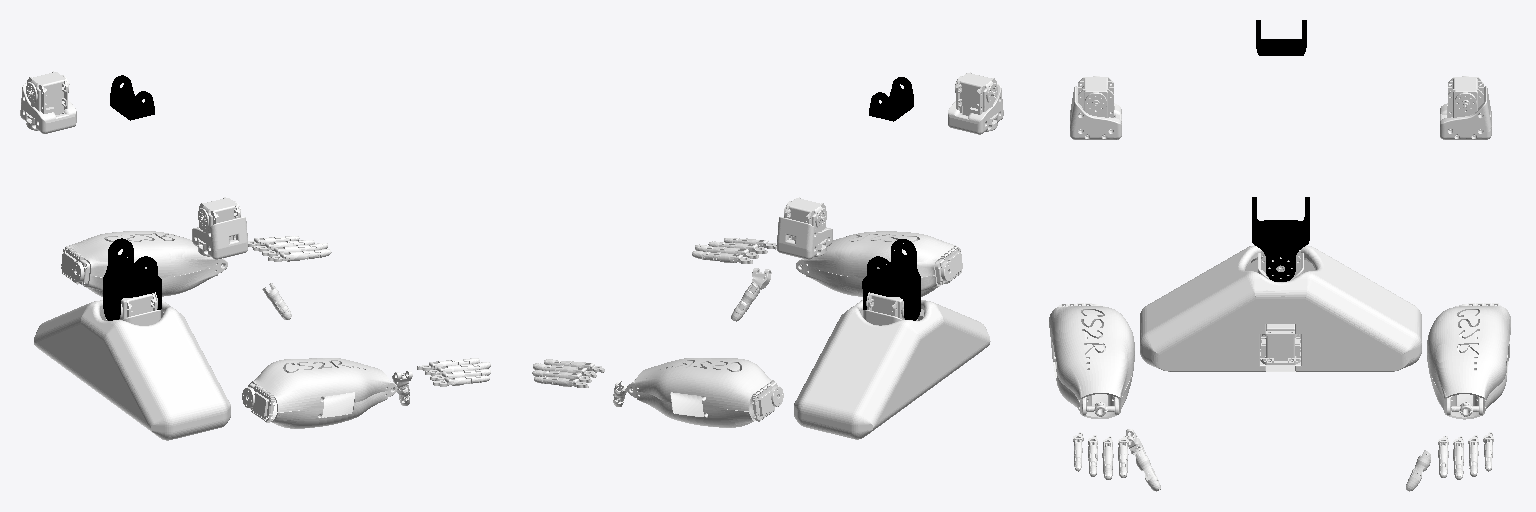
--- Facts derived from the render (not from the file) ---
Views: 3 orthographic renders of the robot side by side, from view 1: azimuth 30°, elevation 25°; view 2: azimuth 150°, elevation 25°; view 3: azimuth 270°, elevation 25°.
Robot: hek — 59 links, 58 joints (55 revolute, 3 fixed); root link world; default pose: all joints at 0 but 4 set to mid-range because 0 is outside their limits (l_elpow_y = 1.43, l_thumb_joint_x = 1.05, r_elpow_y = 1.43, r_thumb_joint_x = 1.05).
Visible links, largest first — view 1: base, r_forearm, l_forearm, abd, l_upper_arm_up, r_upper_arm_up, neck, abd_z_joint; view 2: base, l_forearm, r_forearm, abd, l_upper_arm_up, r_upper_arm_up, neck, abd_z_joint; view 3: base, r_forearm, l_forearm, r_upper_arm_up, l_upper_arm_up, abd, neck.
Boxes of the visible links, <box> form: base: <box>34,300,230,440</box>; r_forearm: <box>242,358,397,428</box>; l_forearm: <box>61,231,227,296</box>; abd: <box>103,238,161,320</box>; l_upper_arm_up: <box>20,71,76,133</box>; r_upper_arm_up: <box>192,197,247,259</box>; neck: <box>110,75,154,120</box>; abd_z_joint: <box>106,292,160,325</box>; base: <box>794,300,990,439</box>; l_forearm: <box>627,358,783,427</box>; r_forearm: <box>796,231,962,296</box>; abd: <box>862,239,920,320</box>; l_upper_arm_up: <box>777,197,832,259</box>; r_upper_arm_up: <box>948,72,1003,134</box>; neck: <box>869,77,913,121</box>; abd_z_joint: <box>863,292,917,325</box>; base: <box>1140,245,1421,371</box>; r_forearm: <box>1049,303,1134,418</box>; l_forearm: <box>1427,303,1510,419</box>; r_upper_arm_up: <box>1070,76,1121,139</box>; l_upper_arm_up: <box>1440,76,1491,139</box>; abd: <box>1252,197,1309,281</box>; neck: <box>1256,20,1306,55</box>.
Size in the robot's own frame: 0.3921 by 0.4585 by 0.3903 metres.
47 mesh visuals loaded from 33 distinct referenced files (25 binary STL); not drawn: 11 (reference not matched to a file when rendering).

URDF robot description (hek):
<?xml version="1.0"?>
<robot name="hek">

  <link name="world"/>

  <link name="base">
    <visual>
      <origin xyz="-0.05 -0.14 0" rpy="1.57 0 1.57"/>
      <geometry>
        <mesh filename="package://cs2r_desc/stl/base0.STL"
              scale="0.001 0.001 0.001"
        />
      </geometry>
      <material name="white">
        <color rgba="1 1 1 1"/>
      </material>
    </visual>
  </link>

  <joint name="fixed" type="fixed">
    <parent link="world"/>
    <child link="base"/>
  </joint>

  <link name="abd_z_joint">
    <visual>
      <origin xyz="-0.024 0.0231 0" rpy="1.57 0 0"/>
      <geometry>
        <mesh filename="package://cs2r_desc/stl/abd_z_joint0.STL"
              scale="0.001 0.001 0.001"
        />
      </geometry>
      <material name="white"/>
    </visual>
  </link>

  <joint name="abd_z" type="revolute">
    <origin xyz="0 0 0.049" rpy="0 0 0"/>
    <parent link="base"/>
    <child link="abd_z_joint"/>
    <axis xyz="0 0 1"/>
    <limit effort="100" velocity="1.0" lower="-0.75" upper="0.75" />
  </joint>

  <link name="abd">
    <visual>
      <origin xyz="-0.0285 0.0285 -0.015" rpy="1.57 0 0"/>
      <geometry>
        <mesh filename="package://cs2r_desc/stl/abd.STL"
              scale="0.001 0.001 0.001"
        />
      </geometry>
      <material name="black">
        <color rgba="0 0 0 1"/>
      </material>
    </visual>
  </link>

  <joint name="abd_x" type="revolute">
    <origin xyz="0 0 0.0531" rpy="0 0 1.57"/>
    <parent link="abd_z_joint"/>
    <child link="abd"/>
    <axis xyz="0 1 0"/>
    <limit effort="100" velocity="1.0" lower="-0.5" upper="0.5" />
  </joint>


  <link name="chest">
    <visual>
      <origin xyz="0.05 0.149895 -0.014" rpy="1.57 0 -1.57"/>
      <geometry>
        <mesh filename="package://cs2r_desc/stl/chest0.STL"
              scale="0.001 0.001 0.001"
        />
      </geometry>
      <material name="white"/>
    </visual>
  </link>

  <joint name="abd_y" type="revolute">
    <origin xyz="0 0 0.05" rpy="0 0 -1.57"/>
    <parent link="abd"/>
    <child link="chest"/>
    <axis xyz="0 1 0"/>
    <limit effort="100" velocity="1.0" lower="-0.7" upper="1.0" />
  </joint>


  <link name="neck">
    <visual>
      <origin xyz="-0.015 -0.0255 0" rpy="1.57 0 1.57"/>
      <geometry>
        <mesh filename="package://cs2r_desc/stl/neck.STL"
              scale="0.001 0.001 0.001"
        />
      </geometry>
      <material name="black"/>
    </visual>
  </link>

  <joint name="neck_z" type="revolute">
    <origin xyz="0 0 0.17654" rpy="0 0 0"/>
    <parent link="chest"/>
    <child link="neck"/>
    <axis xyz="0 0 1"/>
    <limit effort="100" velocity="1.0" lower="-1.0" upper="1.0" />
  </joint>


  <link name="head">
    <visual>
      <origin xyz="0.0535 0.08 -0.0115" rpy="1.57 0 -1.57"/>
      <geometry>
        <mesh filename="package://cs2r_desc/stl/head.STL"
              scale="0.001 0.001 0.001"
        />
      </geometry>
      <material name="white"/>
    </visual>
  </link>

  <joint name="neck_y" type="revolute">
    <origin xyz="0 0 0.02" rpy="0 0 0"/>
    <parent link="neck"/>
    <child link="head"/>
    <axis xyz="0 1 0"/>
    <limit effort="100" velocity="1.0" lower="-0.6" upper="0.7" />
  </joint>

  <!-- LEFT ARM *****************************************************************-->

  <link name="l_shoulder">
    <visual>
      <origin xyz="0 0 0" rpy="0 0 0"/>
      <geometry>
        <mesh filename="package://cs2r_desc/stl/shoulder.STL"
              scale="0.001 0.001 0.001"
        />
      </geometry>
      <material name="white"/>
    </visual>
  </link>

  <joint name="l_shoulder_y" type="revolute">
    <origin xyz="0.001 0.14819 0.1286" rpy="0 0 1.57"/>
    <parent link="chest"/>
    <child link="l_shoulder"/>
    <axis xyz="-1 0 0"/>
    <limit effort="100" velocity="1.0" lower="-1.0" upper="2.7" />
  </joint>

  <link name="l_upper_arm_up">
    <visual>
      <origin xyz="-0.0258 0.02385 -0.0416" rpy="1.57 0 0"/>
      <geometry>
        <mesh filename="package://cs2r_desc/stl/l_upper_arm_up.STL"
              scale="0.001 0.001 0.001"
        />
      </geometry>
      <material name="white"/>
    </visual>
  </link>

  <joint name="l_shoulder_x" type="revolute">
    <origin xyz="0.035 0 0" rpy="0 0 0"/>
    <parent link="l_shoulder"/>
    <child link="l_upper_arm_up"/>
    <axis xyz="0 -1 0"/>
    <limit effort="100" velocity="1.0" lower="0" upper="1.7" />
  </joint>

  <link name="l_upper_arm">
    <visual>
      <origin xyz="0 0 0" rpy="0 0 0"/>
      <geometry>
        <mesh filename="package://cs2r_desc/stl/upper_arm.STL"
              scale="0.001 0.001 0.001"
        />
      </geometry>
      <material name="white"/>
    </visual>
  </link>

  <joint name="l_shoulder_z" type="revolute">
    <origin xyz="0 0.01 -0.0416" rpy="0 0 -1.57"/>
    <parent link="l_upper_arm_up"/>
    <child link="l_upper_arm"/>
    <axis xyz="0 0 1"/>
    <limit effort="100" velocity="1.0" lower="-1.57" upper="1.57" />
  </joint>

  <link name="l_elpow">
    <visual>
      <origin xyz="0 0 0" rpy="0 0 0"/>
      <geometry>
        <mesh filename="package://cs2r_desc/stl/elpow.STL"
              scale="0.001 0.001 0.001"
        />
      </geometry>
      <material name="black"/>
    </visual>
  </link>

  <joint name="l_elpow_y" type="revolute">
    <origin xyz="0.01 -0.001 -0.1557" rpy="0 0 0"/>
    <parent link="l_upper_arm"/>
    <child link="l_elpow"/>
    <axis xyz="0 -1 0"/>
    <limit effort="100" velocity="1.0" lower="0.35" upper="2.5" />
  </joint>

  <link name="l_forearm">
    <visual>
      <origin xyz="0 0 0" rpy="0 0 0"/>
      <geometry>
        <mesh filename="package://cs2r_desc/stl/l_forearm.STL"
              scale="0.001 0.001 0.001"
        />
      </geometry>
      <material name="white"/>
    </visual>
  </link>

  <joint name="l_elpow_x" type="revolute">
    <origin xyz="-0.02078 0.0 -0.03755" rpy="0 1.57 0"/>
    <parent link="l_elpow"/>
    <child link="l_forearm"/>
    <axis xyz="-1 0 0"/>
    <limit effort="100" velocity="1.0" lower="0.0" upper="3.14" />
  </joint>

  <link name="l_wrist">
    <visual>
      <origin xyz="0 0 0" rpy="0 0 0"/>
      <geometry>
        <mesh filename="package://cs2r_desc/stl/wrist.STL"
              scale="0.001 0.001 0.001"
        />
      </geometry>
      <material name="white"/>
    </visual>
  </link>

  <joint name="l_wrist_y" type="revolute">
    <origin xyz="0.17325 0.0015 0" rpy="0 0 0"/>
    <parent link="l_forearm"/>
    <child link="l_wrist"/>
    <axis xyz="0 1 0"/>
    <limit effort="100" velocity="1.0" lower="-1.0" upper="1.0" />
  </joint>

  <!--left_hand-->

  <link name="l_palm">
    <visual>
      <origin xyz="0 0 0" rpy="0 0 0"/>
      <geometry>
        <mesh filename="package://cs2r_desc/stl/l_palm.STL"
              scale="0.001 0.001 0.001"
        />
      </geometry>
      <material name="white"/>
    </visual>
  </link>

  <joint name="l_wrist_z" type="revolute">
    <origin xyz="0 0 0" rpy="0 0 0"/>
    <parent link="l_wrist"/>
    <child link="l_palm"/>
    <axis xyz="0 0 1"/>
    <limit effort="100" velocity="1.0" lower="-0.65" upper="0.65" />
  </joint>

  <link name="l_thumb_joint">
    <visual>
      <origin xyz="0 0 0" rpy="0 0 0"/>
      <geometry>
        <mesh filename="package://cs2r_desc/stl/l_thumb_joint.STL"
              scale="0.001 0.001 0.001"
        />
      </geometry>
      <material name="white"/>
    </visual>
  </link>

  <joint name="l_thumb_joint_x" type="revolute">
    <origin xyz="0.0417 -0.0291 -0.0057" rpy="0 0 0"/>
    <parent link="l_palm"/>
    <child link="l_thumb_joint"/>
    <axis xyz="1 0 0"/>
    <limit effort="100" velocity="1.0" lower="0.1" upper="2" />
  </joint>

  <link name="l_thumb1">
    <visual>
      <origin xyz="0 0 0" rpy="0 0 0"/>
      <geometry>
        <mesh filename="package://cs2r_desc/stl/Thumb1.STL"
              scale="0.001 0.001 0.001"
        />
      </geometry>
      <material name="white"/>
    </visual>
  </link>

  <joint name="l_thumb" type="revolute">
    <origin xyz="0.0068 -0.019 0" rpy="0.3 -0.0 -1.06"/>
    <parent link="l_thumb_joint"/>
    <child link="l_thumb1"/>
    <axis xyz="0 1 0"/>
    <limit effort="100" velocity="1.0" lower="0" upper="1.4" />
  </joint>

  <link name="l_thumb2">
    <visual>
      <origin xyz="0 0 0" rpy="0 0 0"/>
      <geometry>
        <mesh filename="package://cs2r_desc/stl/Thumb2.STL"
              scale="0.001 0.001 0.001"
        />
      </geometry>
      <material name="white"/>
    </visual>
  </link>

  <joint name="l_thumb1_2" type="revolute">
    <origin xyz="0.021 0 0" rpy="0 0 0"/>
    <parent link="l_thumb1"/>
    <child link="l_thumb2"/>
    <axis xyz="0 1 0"/>
    <mimic joint="l_thumb" multiplier="1"/>
    <limit effort="100" velocity="1.0" lower="0" upper="1.4" />
  </joint>

  <link name="l_index_finger_joint">
    <visual>
      <origin xyz="0 0 0" rpy="0 0 0"/>
      <geometry>
        <mesh filename="package://cs2r_desc/stl/finger_joint.STL"
              scale="0.001 0.001 0.001"
        />
      </geometry>
      <material name="white"/>
    </visual>
  </link>

  <joint name="l_fingers_z" type="revolute">
    <origin xyz="0.06512 -0.0225 0.0051" rpy="0 0 0"/>
    <parent link="l_palm"/>
    <child link="l_index_finger_joint"/>
    <axis xyz="0 0 1"/>
    <limit effort="100" velocity="1.0" lower="-0.25" upper="0.15" />
  </joint>

  <link name="l_index1">
    <visual>
      <origin xyz="0 0 0" rpy="0 0 0"/>
      <geometry>
        <mesh filename="package://cs2r_desc/stl/Index1.STL"
              scale="0.001 0.001 0.001"
        />
      </geometry>
      <material name="white"/>
    </visual>
  </link>

  <joint name="l_index" type="revolute">
    <origin xyz="0.0115 0 -0.0005" rpy="0 0 0"/>
    <parent link="l_index_finger_joint"/>
    <child link="l_index1"/>
    <axis xyz="0 1 0"/>
    <limit effort="100" velocity="1.0" lower="0.0" upper="1.5" />
  </joint>

  <link name="l_index2">
    <visual>
      <origin xyz="0 0 0" rpy="0 0 0"/>
      <geometry>
        <mesh filename="package://cs2r_desc/stl/Index2.STL"
              scale="0.001 0.001 0.001"
        />
      </geometry>
      <material name="white"/>
    </visual>
  </link>

  <joint name="l_index1_2" type="revolute">
    <origin xyz="0.022 0 0" rpy="0 0 0"/>
    <parent link="l_index1"/>
    <child link="l_index2"/>
    <axis xyz="0 1 0"/>
    <mimic joint="l_index" multiplier="1"/>
    <limit effort="100" velocity="1.0" lower="0.0" upper="1.5" />
  </joint>

  <link name="l_index3">
    <visual>
      <origin xyz="0 0 0" rpy="0 0 0"/>
      <geometry>
        <mesh filename="package://cs2r_desc/stl/Index3.STL"
              scale="0.001 0.001 0.001"
        />
      </geometry>
      <material name="white"/>
    </visual>
  </link>

  <joint name="l_index2_3" type="revolute">
    <origin xyz="0.0146 0 0" rpy="0 0 0"/>
    <parent link="l_index2"/>
    <child link="l_index3"/>
    <axis xyz="0 1 0"/>
    <mimic joint="l_index" multiplier="1"/>
    <limit effort="100" velocity="1.0" lower="0.0" upper="1.5" />
  </joint>

  <link name="l_middle_finger_joint">
    <visual>
      <origin xyz="0 0 0" rpy="0 0 0"/>
      <geometry>
        <mesh filename="package://cs2r_desc/stl/finger_joint.STL"
              scale="0.001 0.001 0.001"
        />
      </geometry>
      <material name="white"/>
    </visual>
  </link>

  <joint name="l_midlle_z" type="fixed">
    <origin xyz="0.0665 -0.00733 0.0051" rpy="0 0 0"/>
    <parent link="l_palm"/>
    <child link="l_middle_finger_joint"/>
  </joint>

  <link name="l_middle1">
    <visual>
      <origin xyz="0 0 0" rpy="0 0 0"/>
      <geometry>
        <mesh filename="package://cs2r_desc/stl/Majeure1.STL"
              scale="0.001 0.001 0.001"
        />
      </geometry>
      <material name="white"/>
    </visual>
  </link>

  <joint name="l_middle" type="revolute">
    <origin xyz="0.0115 0 -0.0005" rpy="0 0 0"/>
    <parent link="l_middle_finger_joint"/>
    <child link="l_middle1"/>
    <axis xyz="0 1 0"/>
    <limit effort="100" velocity="1.0" lower="0.0" upper="1.5" />
  </joint>

  <link name="l_middle2">
    <visual>
      <origin xyz="0 0 0" rpy="0 0 0"/>
      <geometry>
        <mesh filename="package://cs2r_desc/stl/Majeure2.STL"
              scale="0.001 0.001 0.001"
        />
      </geometry>
      <material name="white"/>
    </visual>
  </link>

  <joint name="l_middle1_2" type="revolute">
    <origin xyz="0.023 0 0" rpy="0 0 0"/>
    <parent link="l_middle1"/>
    <child link="l_middle2"/>
    <axis xyz="0 1 0"/>
    <mimic joint="l_middle" multiplier="1"/>
    <limit effort="100" velocity="1.0" lower="0.0" upper="1.5" />
  </joint>

  <link name="l_middle3">
    <visual>
      <origin xyz="0 0 0" rpy="0 0 0"/>
      <geometry>
        <mesh filename="package://cs2r_desc/stl/Majeure3.STL"
              scale="0.001 0.001 0.001"
        />
      </geometry>
      <material name="white"/>
    </visual>
  </link>

  <joint name="l_middle2_3" type="revolute">
    <origin xyz="0.0155 0 0" rpy="0 0 0"/>
    <parent link="l_middle2"/>
    <child link="l_middle3"/>
    <axis xyz="0 1 0"/>
    <mimic joint="l_middle" multiplier="1"/>
    <limit effort="100" velocity="1.0" lower="0.0" upper="1.5" />
  </joint>

  <link name="l_ring_finger_joint">
    <visual>
      <origin xyz="0 0 0" rpy="0 0 0"/>
      <geometry>
        <mesh filename="package://cs2r_desc/stl/finger_joint.STL"
              scale="0.001 0.001 0.001"
        />
      </geometry>
      <material name="white"/>
    </visual>
  </link>

  <joint name="l_ring_z" type="revolute">
    <origin xyz="0.064 0.00747 0.0051" rpy="0 0 0"/>
    <parent link="l_palm"/>
    <child link="l_ring_finger_joint"/>
    <axis xyz="0 0 1"/>
    <mimic joint="l_fingers_z" multiplier="-1"/>
    <limit effort="100" velocity="1.0" lower="-0.4" upper="0.2" />
  </joint>

  <link name="l_ring1">
    <visual>
      <origin xyz="0 0 0" rpy="0 0 0"/>
      <geometry>
        <mesh filename="package://cs2r_desc/stl/RingFinger1.STL"
              scale="0.001 0.001 0.001"
        />
      </geometry>
      <material name="white"/>
    </visual>
  </link>

  <joint name="l_ring" type="revolute">
    <origin xyz="0.0115 0 -0.0005" rpy="0 0 0"/>
    <parent link="l_ring_finger_joint"/>
    <child link="l_ring1"/>
    <axis xyz="0 1 0"/>
    <limit effort="100" velocity="1.0" lower="0.0" upper="1.5" />
  </joint>

  <link name="l_ring2">
    <visual>
      <origin xyz="0 0 0" rpy="0 0 0"/>
      <geometry>
        <mesh filename="package://cs2r_desc/stl/RingFinger2.STL"
              scale="0.001 0.001 0.001"
        />
      </geometry>
      <material name="white"/>
    </visual>
  </link>

  <joint name="l_ring1_2" type="revolute">
    <origin xyz="0.021 0 0" rpy="0 0 0"/>
    <parent link="l_ring1"/>
    <child link="l_ring2"/>
    <axis xyz="0 1 0"/>
    <mimic joint="l_ring" multiplier="1"/>
    <limit effort="100" velocity="1.0" lower="0.0" upper="1.5" />
  </joint>

  <link name="l_ring3">
    <visual>
      <origin xyz="0 0 0" rpy="0 0 0"/>
      <geometry>
        <mesh filename="package://cs2r_desc/stl/RingFinger3.STL"
              scale="0.001 0.001 0.001"
        />
      </geometry>
      <material name="white"/>
    </visual>
  </link>

  <joint name="l_ring2_3" type="revolute">
    <origin xyz="0.014 0 0" rpy="0 0 0"/>
    <parent link="l_ring2"/>
    <child link="l_ring3"/>
    <axis xyz="0 1 0"/>
    <mimic joint="l_ring" multiplier="1"/>
    <limit effort="100" velocity="1.0" lower="0.0" upper="1.5" />
  </joint>

  <link name="l_auri_finger_joint">
    <visual>
      <origin xyz="0 0 0" rpy="0 0 0"/>
      <geometry>
        <mesh filename="package://cs2r_desc/stl/finger_joint.STL"
              scale="0.001 0.001 0.001"
        />
      </geometry>
      <material name="white"/>
    </visual>
  </link>

  <joint name="l_auri_z" type="revolute">
    <origin xyz="0.05918 0.02225 0.0051" rpy="0 0 0"/>
    <parent link="l_palm"/>
    <child link="l_auri_finger_joint"/>
    <axis xyz="0 0 1"/>
    <mimic joint="l_fingers_z" multiplier="-1.5"/>
    <limit effort="100" velocity="1.0" lower="-0.4" upper="0.2" />
  </joint>

  <link name="l_auri1">
    <visual>
      <origin xyz="0 0 0" rpy="0 0 0"/>
      <geometry>
        <mesh filename="package://cs2r_desc/stl/Auriculaire1.STL"
              scale="0.001 0.001 0.001"
        />
      </geometry>
      <material name="white"/>
    </visual>
  </link>

  <joint name="l_auri" type="revolute">
    <origin xyz="0.0115 0 -0.0005" rpy="0 0 0"/>
    <parent link="l_auri_finger_joint"/>
    <child link="l_auri1"/>
    <axis xyz="0 1 0"/>
    <limit effort="100" velocity="1.0" lower="0.0" upper="1.5" />
  </joint>

  <link name="l_auri2">
    <visual>
      <origin xyz="0 0 0" rpy="0 0 0"/>
      <geometry>
        <mesh filename="package://cs2r_desc/stl/Auriculaire2.STL"
              scale="0.001 0.001 0.001"
        />
      </geometry>
      <material name="white"/>
    </visual>
  </link>

  <joint name="l_auri1_2" type="revolute">
    <origin xyz="0.019 0 0" rpy="0 0 0"/>
    <parent link="l_auri1"/>
    <child link="l_auri2"/>
    <axis xyz="0 1 0"/>
    <mimic joint="l_auri" multiplier="1"/>
    <limit effort="100" velocity="1.0" lower="0.0" upper="1.5" />
  </joint>

  <link name="l_auri3">
    <visual>
      <origin xyz="0 0 0" rpy="0 0 0"/>
      <geometry>
        <mesh filename="package://cs2r_desc/stl/Auriculaire3.STL"
              scale="0.001 0.001 0.001"
        />
      </geometry>
      <material name="white"/>
    </visual>
  </link>

  <joint name="l_auri2_3" type="revolute">
    <origin xyz="0.0125 0 0" rpy="0 0 0"/>
    <parent link="l_auri2"/>
    <child link="l_auri3"/>
    <axis xyz="0 1 0"/>
    <mimic joint="l_auri" multiplier="1"/>
    <limit effort="100" velocity="1.0" lower="0.0" upper="1.5" />
  </joint>

  <!--*********-->

  <!-- ***************************************************************************-->

  <!-- RIGHT ARM *****************************************************************-->

  <link name="r_shoulder">
    <visual>
      <origin xyz="0 0 0" rpy="0 0 0"/>
      <geometry>
        <mesh filename="package://cs2r_desc/stl/shoulder.STL"
              scale="0.001 0.001 0.001"
        />
      </geometry>
      <material name="white"/>
    </visual>
  </link>

  <joint name="r_shoulder_y" type="revolute">
    <origin xyz="0.001 -0.14819 0.1286" rpy="0 0 -1.57"/>
    <parent link="chest"/>
    <child link="r_shoulder"/>
    <axis xyz="1 0 0"/>
    <limit effort="100" velocity="1.0" lower="-1.0" upper="2.7" />
  </joint>

  <link name="r_upper_arm_up">
    <visual>
      <origin xyz="-0.0258 0.02385 -0.0416" rpy="1.57 0 0"/>
      <geometry>
        <mesh filename="package://cs2r_desc/stl/r_upper_arm_up.STL"
              scale="0.001 0.001 0.001"
        />
      </geometry>
      <material name="white"/>
    </visual>
  </link>

  <joint name="r_shoulder_x" type="revolute">
    <origin xyz="0.035 0 0" rpy="0 0 3.14"/>
    <parent link="r_shoulder"/>
    <child link="r_upper_arm_up"/>
    <axis xyz="0 1 0"/>
    <limit effort="100" velocity="1.0" lower="0" upper="1.7"/>
  </joint>

  <link name="r_upper_arm">
    <visual>
      <origin xyz="0 0 0" rpy="0 0 0"/>
      <geometry>
        <mesh filename="package://cs2r_desc/stl/upper_arm.STL"
              scale="0.001 0.001 0.001"
        />
      </geometry>
      <material name="white"/>
    </visual>
  </link>

  <joint name="r_shoulder_z" type="revolute">
    <origin xyz="0 0.01 -0.0416" rpy="0 0 -1.57"/>
    <parent link="r_upper_arm_up"/>
    <child link="r_upper_arm"/>
    <axis xyz="0 0 -1"/>
    <limit effort="100" velocity="1.0" lower="-1.57" upper="1.57" />
  </joint>

  <link name="r_elpow">
    <visual>
      <origin xyz="0 0 0" rpy="0 0 0"/>
      <geometry>
        <mesh filename="package://cs2r_desc/stl/elpow.STL"
              scale="0.001 0.001 0.001"
        />
      </geometry>
      <material name="black"/>
    </visual>
  </link>

  <joint name="r_elpow_y" type="revolute">
    <origin xyz="0.01 -0.001 -0.1557" rpy="0 0 0"/>
    <parent link="r_upper_arm"/>
    <child link="r_elpow"/>
    <axis xyz="0 -1 0"/>
    <limit effort="100" velocity="1.0" lower="0.35" upper="2.5" />
  </joint>

  <link name="r_forearm">
    <visual>
      <origin xyz="0 0 0" rpy="0 0 0"/>
      <geometry>
        <mesh filename="package://cs2r_desc/stl/r_forearm.STL"
              scale="0.001 0.001 0.001"
        />
      </geometry>
      <material name="white"/>
    </visual>
  </link>

  <joint name="r_elpow_x" type="revolute">
    <origin xyz="-0.02078 0.0 -0.03755" rpy="0 1.57 0"/>
    <parent link="r_elpow"/>
    <child link="r_forearm"/>
    <axis xyz="1 0 0"/>
    <limit effort="100" velocity="1.0" lower="0.0" upper="3.14" />
  </joint>

  <link name="r_wrist">
    <visual>
      <origin xyz="0 0 0" rpy="0 0 0"/>
      <geometry>
        <mesh filename="package://cs2r_desc/stl/wrist.STL"
              scale="0.001 0.001 0.001"
        />
      </geometry>
      <material name="white"/>
    </visual>
  </link>

  <joint name="r_wrist_y" type="revolute">
    <origin xyz="0.17325 0.0055 0" rpy="0 0 0"/>
    <parent link="r_forearm"/>
    <child link="r_wrist"/>
    <axis xyz="0 1 0"/>
    <limit effort="100" velocity="1.0" lower="-1.0" upper="1.0" />
  </joint>

  <!--right_hand-->

  <link name="r_palm">
    <visual>
      <origin xyz="0 0 0" rpy="0 0 0"/>
      <geometry>
        <mesh filename="package://cs2r_desc/stl/r_palm.STL"
              scale="0.001 0.001 0.001"
        />
      </geometry>
      <material name="white"/>
    </visual>
  </link>

  <joint name="r_wrist_z" type="revolute">
    <origin xyz="0 0 0" rpy="0 0 0"/>
    <parent link="r_wrist"/>
    <child link="r_palm"/>
    <axis xyz="0 0 1"/>
    <limit effort="100" velocity="1.0" lower="-0.65" upper="0.65" />
  </joint>

  <link name="r_thumb_joint">
    <visual>
      <origin xyz="0 0 0" rpy="0 0 0"/>
      <geometry>
        <mesh filename="package://cs2r_desc/stl/r_thumb_joint.STL"
              scale="0.001 0.001 0.001"
        />
      </geometry>
      <material name="white"/>
    </visual>
  </link>

  <joint name="r_thumb_joint_x" type="revolute">
    <origin xyz="0.0417 0.0291 -0.0057" rpy="0 0 0"/>
    <parent link="r_palm"/>
    <child link="r_thumb_joint"/>
    <axis xyz="-1 0 0"/>
    <limit effort="100" velocity="1.0" lower="0.1" upper="2" />
  </joint>

  <link name="r_thumb1">
    <visual>
      <origin xyz="0 0 0" rpy="0 0 0"/>
      <geometry>
        <mesh filename="package://cs2r_desc/stl/Thumb1.STL"
              scale="0.001 0.001 0.001"
        />
      </geometry>
      <material name="white"/>
    </visual>
  </link>

  <joint name="r_thumb" type="revolute">
    <origin xyz="0.0068 0.019 0" rpy="-0.3 0.0 1.06"/>
    <parent link="r_thumb_joint"/>
    <child link="r_thumb1"/>
    <axis xyz="0 1 0"/>
    <limit effort="100" velocity="1.0" lower="0" upper="1.4" />
  </joint>

  <link name="r_thumb2">
    <visual>
      <origin xyz="0 0 0" rpy="0 0 0"/>
      <geometry>
        <mesh filename="package://cs2r_desc/stl/Thumb2.STL"
              scale="0.001 0.001 0.001"
        />
      </geometry>
      <material name="white"/>
    </visual>
  </link>

  <joint name="r_thumb1_2" type="revolute">
    <origin xyz="0.021 0 0" rpy="0 0 0"/>
    <parent link="r_thumb1"/>
    <child link="r_thumb2"/>
    <axis xyz="0 1 0"/>
    <mimic joint="r_thumb" multiplier="1"/>
    <limit effort="100" velocity="1.0" lower="0" upper="1.4" />
  </joint>

  <link name="r_index_finger_joint">
    <visual>
      <origin xyz="0 0 0" rpy="0 0 0"/>
      <geometry>
        <mesh filename="package://cs2r_desc/stl/finger_joint.STL"
              scale="0.001 0.001 0.001"
        />
      </geometry>
      <material name="white"/>
    </visual>
  </link>

  <joint name="r_fingers_z" type="revolute">
    <origin xyz="0.06512 0.0225 0.0051" rpy="0 0 0"/>
    <parent link="r_palm"/>
    <child link="r_index_finger_joint"/>
    <axis xyz="0 0 -1"/>
    <limit effort="100" velocity="1.0" lower="-0.25" upper="0.15" />
  </joint>

  <link name="r_index1">
    <visual>
      <origin xyz="0 0 0" rpy="0 0 0"/>
      <geometry>
        <mesh filename="package://cs2r_desc/stl/Index1.STL"
              scale="0.001 0.001 0.001"
        />
      </geometry>
      <material name="white"/>
    </visual>
  </link>

  <joint name="r_index" type="revolute">
    <origin xyz="0.0115 0 -0.0005" rpy="0 0 0"/>
    <parent link="r_index_finger_joint"/>
    <child link="r_index1"/>
    <axis xyz="0 1 0"/>
    <limit effort="100" velocity="1.0" lower="0.0" upper="1.5" />
  </joint>

  <link name="r_index2">
    <visual>
      <origin xyz="0 0 0" rpy="0 0 0"/>
      <geometry>
        <mesh filename="package://cs2r_desc/stl/Index2.STL"
              scale="0.001 0.001 0.001"
        />
      </geometry>
      <material name="white"/>
    </visual>
  </link>

  <joint name="r_index1_2" type="revolute">
    <origin xyz="0.022 0 0" rpy="0 0 0"/>
    <parent link="r_index1"/>
    <child link="r_index2"/>
    <axis xyz="0 1 0"/>
    <mimic joint="r_index" multiplier="1"/>
    <limit effort="100" velocity="1.0" lower="0.0" upper="1.5" />
  </joint>

  <link name="r_index3">
    <visual>
      <origin xyz="0 0 0" rpy="0 0 0"/>
      <geometry>
        <mesh filename="package://cs2r_desc/stl/Index3.STL"
              scale="0.001 0.001 0.001"
        />
      </geometry>
      <material name="white"/>
    </visual>
  </link>

  <joint name="r_index2_3" type="revolute">
    <origin xyz="0.0146 0 0" rpy="0 0 0"/>
    <parent link="r_index2"/>
    <child link="r_index3"/>
    <axis xyz="0 1 0"/>
    <mimic joint="r_index" multiplier="1"/>
    <limit effort="100" velocity="1.0" lower="0.0" upper="1.5" />
  </joint>

  <link name="r_middle_finger_joint">
    <visual>
      <origin xyz="0 0 0" rpy="0 0 0"/>
      <geometry>
        <mesh filename="package://cs2r_desc/stl/finger_joint.STL"
              scale="0.001 0.001 0.001"
        />
      </geometry>
      <material name="white"/>
    </visual>
  </link>

  <joint name="r_midlle_z" type="fixed">
    <origin xyz="0.0665 0.00733 0.0051" rpy="0 0 0"/>
    <parent link="r_palm"/>
    <child link="r_middle_finger_joint"/>
  </joint>

  <link name="r_middle1">
    <visual>
      <origin xyz="0 0 0" rpy="0 0 0"/>
      <geometry>
        <mesh filename="package://cs2r_desc/stl/Majeure1.STL"
              scale="0.001 0.001 0.001"
        />
      </geometry>
      <material name="white"/>
    </visual>
  </link>

  <joint name="r_middle" type="revolute">
    <origin xyz="0.0115 0 -0.0005" rpy="0 0 0"/>
    <parent link="r_middle_finger_joint"/>
    <child link="r_middle1"/>
    <axis xyz="0 1 0"/>
    <limit effort="100" velocity="1.0" lower="0.0" upper="1.5" />
  </joint>

  <link name="r_middle2">
    <visual>
      <origin xyz="0 0 0" rpy="0 0 0"/>
      <geometry>
        <mesh filename="package://cs2r_desc/stl/Majeure2.STL"
              scale="0.001 0.001 0.001"
        />
      </geometry>
      <material name="white"/>
    </visual>
  </link>

  <joint name="r_middle1_2" type="revolute">
    <origin xyz="0.023 0 0" rpy="0 0 0"/>
    <parent link="r_middle1"/>
    <child link="r_middle2"/>
    <axis xyz="0 1 0"/>
    <mimic joint="r_middle" multiplier="1"/>
    <limit effort="100" velocity="1.0" lower="0.0" upper="1.5" />
  </joint>

  <link name="r_middle3">
    <visual>
      <origin xyz="0 0 0" rpy="0 0 0"/>
      <geometry>
        <mesh filename="package://cs2r_desc/stl/Majeure3.STL"
              scale="0.001 0.001 0.001"
        />
      </geometry>
      <material name="white"/>
    </visual>
  </link>

  <joint name="r_middle2_3" type="revolute">
    <origin xyz="0.0155 0 0" rpy="0 0 0"/>
    <parent link="r_middle2"/>
    <child link="r_middle3"/>
    <axis xyz="0 1 0"/>
    <mimic joint="r_middle" multiplier="1"/>
    <limit effort="100" velocity="1.0" lower="0.0" upper="1.5" />
  </joint>

  <link name="r_ring_finger_joint">
    <visual>
      <origin xyz="0 0 0" rpy="0 0 0"/>
      <geometry>
        <mesh filename="package://cs2r_desc/stl/finger_joint.STL"
              scale="0.001 0.001 0.001"
        />
      </geometry>
      <material name="white"/>
    </visual>
  </link>

  <joint name="r_ring_z" type="revolute">
    <origin xyz="0.064 -0.00747 0.0051" rpy="0 0 0"/>
    <parent link="r_palm"/>
    <child link="r_ring_finger_joint"/>
    <axis xyz="0 0 -1"/>
    <mimic joint="r_fingers_z" multiplier="-1"/>
    <limit effort="100" velocity="1.0" lower="-0.4" upper="0.2" />
  </joint>

  <link name="r_ring1">
    <visual>
      <origin xyz="0 0 0" rpy="0 0 0"/>
      <geometry>
        <mesh filename="package://cs2r_desc/stl/RingFinger1.STL"
              scale="0.001 0.001 0.001"
        />
      </geometry>
      <material name="white"/>
    </visual>
  </link>

  <joint name="r_ring" type="revolute">
    <origin xyz="0.0115 0 -0.0005" rpy="0 0 0"/>
    <parent link="r_ring_finger_joint"/>
    <child link="r_ring1"/>
    <axis xyz="0 1 0"/>
    <limit effort="100" velocity="1.0" lower="0.0" upper="1.5" />
  </joint>

  <link name="r_ring2">
    <visual>
      <origin xyz="0 0 0" rpy="0 0 0"/>
      <geometry>
        <mesh filename="package://cs2r_desc/stl/RingFinger2.STL"
              scale="0.001 0.001 0.001"
        />
      </geometry>
      <material name="white"/>
    </visual>
  </link>

  <joint name="r_ring1_2" type="revolute">
    <origin xyz="0.021 0 0" rpy="0 0 0"/>
    <parent link="r_ring1"/>
    <child link="r_ring2"/>
    <axis xyz="0 1 0"/>
    <mimic joint="r_ring" multiplier="1"/>
    <limit effort="100" velocity="1.0" lower="0.0" upper="1.5" />
  </joint>

  <link name="r_ring3">
    <visual>
      <origin xyz="0 0 0" rpy="0 0 0"/>
      <geometry>
        <mesh filename="package://cs2r_desc/stl/RingFinger3.STL"
              scale="0.001 0.001 0.001"
        />
      </geometry>
      <material name="white"/>
    </visual>
  </link>

  <joint name="r_ring2_3" type="revolute">
    <origin xyz="0.014 0 0" rpy="0 0 0"/>
    <parent link="r_ring2"/>
    <child link="r_ring3"/>
    <axis xyz="0 1 0"/>
    <mimic joint="r_ring" multiplier="1"/>
    <limit effort="100" velocity="1.0" lower="0.0" upper="1.5" />
  </joint>

  <link name="r_auri_finger_joint">
    <visual>
      <origin xyz="0 0 0" rpy="0 0 0"/>
      <geometry>
        <mesh filename="package://cs2r_desc/stl/finger_joint.STL"
              scale="0.001 0.001 0.001"
        />
      </geometry>
      <material name="white"/>
    </visual>
  </link>

  <joint name="r_auri_z" type="revolute">
    <origin xyz="0.05918 -0.02225 0.0051" rpy="0 0 0"/>
    <parent link="r_palm"/>
    <child link="r_auri_finger_joint"/>
    <axis xyz="0 0 -1"/>
    <mimic joint="r_fingers_z" multiplier="-1.5"/>
    <limit effort="100" velocity="1.0" lower="-0.4" upper="0.2" />
  </joint>


  <link name="r_auri1">
    <visual>
      <origin xyz="0 0 0" rpy="0 0 0"/>
      <geometry>
        <mesh filename="package://cs2r_desc/stl/Auriculaire1.STL"
              scale="0.001 0.001 0.001"
        />
      </geometry>
      <material name="white"/>
    </visual>
  </link>

  <joint name="r_auri" type="revolute">
    <origin xyz="0.0115 0 -0.0005" rpy="0 0 0"/>
    <parent link="r_auri_finger_joint"/>
    <child link="r_auri1"/>
    <axis xyz="0 1 0"/>
    <limit effort="100" velocity="1.0" lower="0.0" upper="1.5" />
  </joint>

  <link name="r_auri2">
    <visual>
      <origin xyz="0 0 0" rpy="0 0 0"/>
      <geometry>
        <mesh filename="package://cs2r_desc/stl/Auriculaire2.STL"
              scale="0.001 0.001 0.001"
        />
      </geometry>
      <material name="white"/>
    </visual>
  </link>

  <joint name="r_auri1_2" type="revolute">
    <origin xyz="0.019 0 0" rpy="0 0 0"/>
    <parent link="r_auri1"/>
    <child link="r_auri2"/>
    <axis xyz="0 1 0"/>
    <mimic joint="r_auri" multiplier="1"/>
    <limit effort="100" velocity="1.0" lower="0.0" upper="1.5" />
  </joint>

  <link name="r_auri3">
    <visual>
      <origin xyz="0 0 0" rpy="0 0 0"/>
      <geometry>
        <mesh filename="package://cs2r_desc/stl/Auriculaire3.STL"
              scale="0.001 0.001 0.001"
        />
      </geometry>
      <material name="white"/>
    </visual>
  </link>

  <joint name="r_auri2_3" type="revolute">
    <origin xyz="0.0125 0 0" rpy="0 0 0"/>
    <parent link="r_auri2"/>
    <child link="r_auri3"/>
    <axis xyz="0 1 0"/>
    <mimic joint="r_auri" multiplier="1"/>
    <limit effort="100" velocity="1.0" lower="0.0" upper="1.5" />
  </joint>

  <!--*********-->
  <!-- ***************************************************************************-->

</robot>
